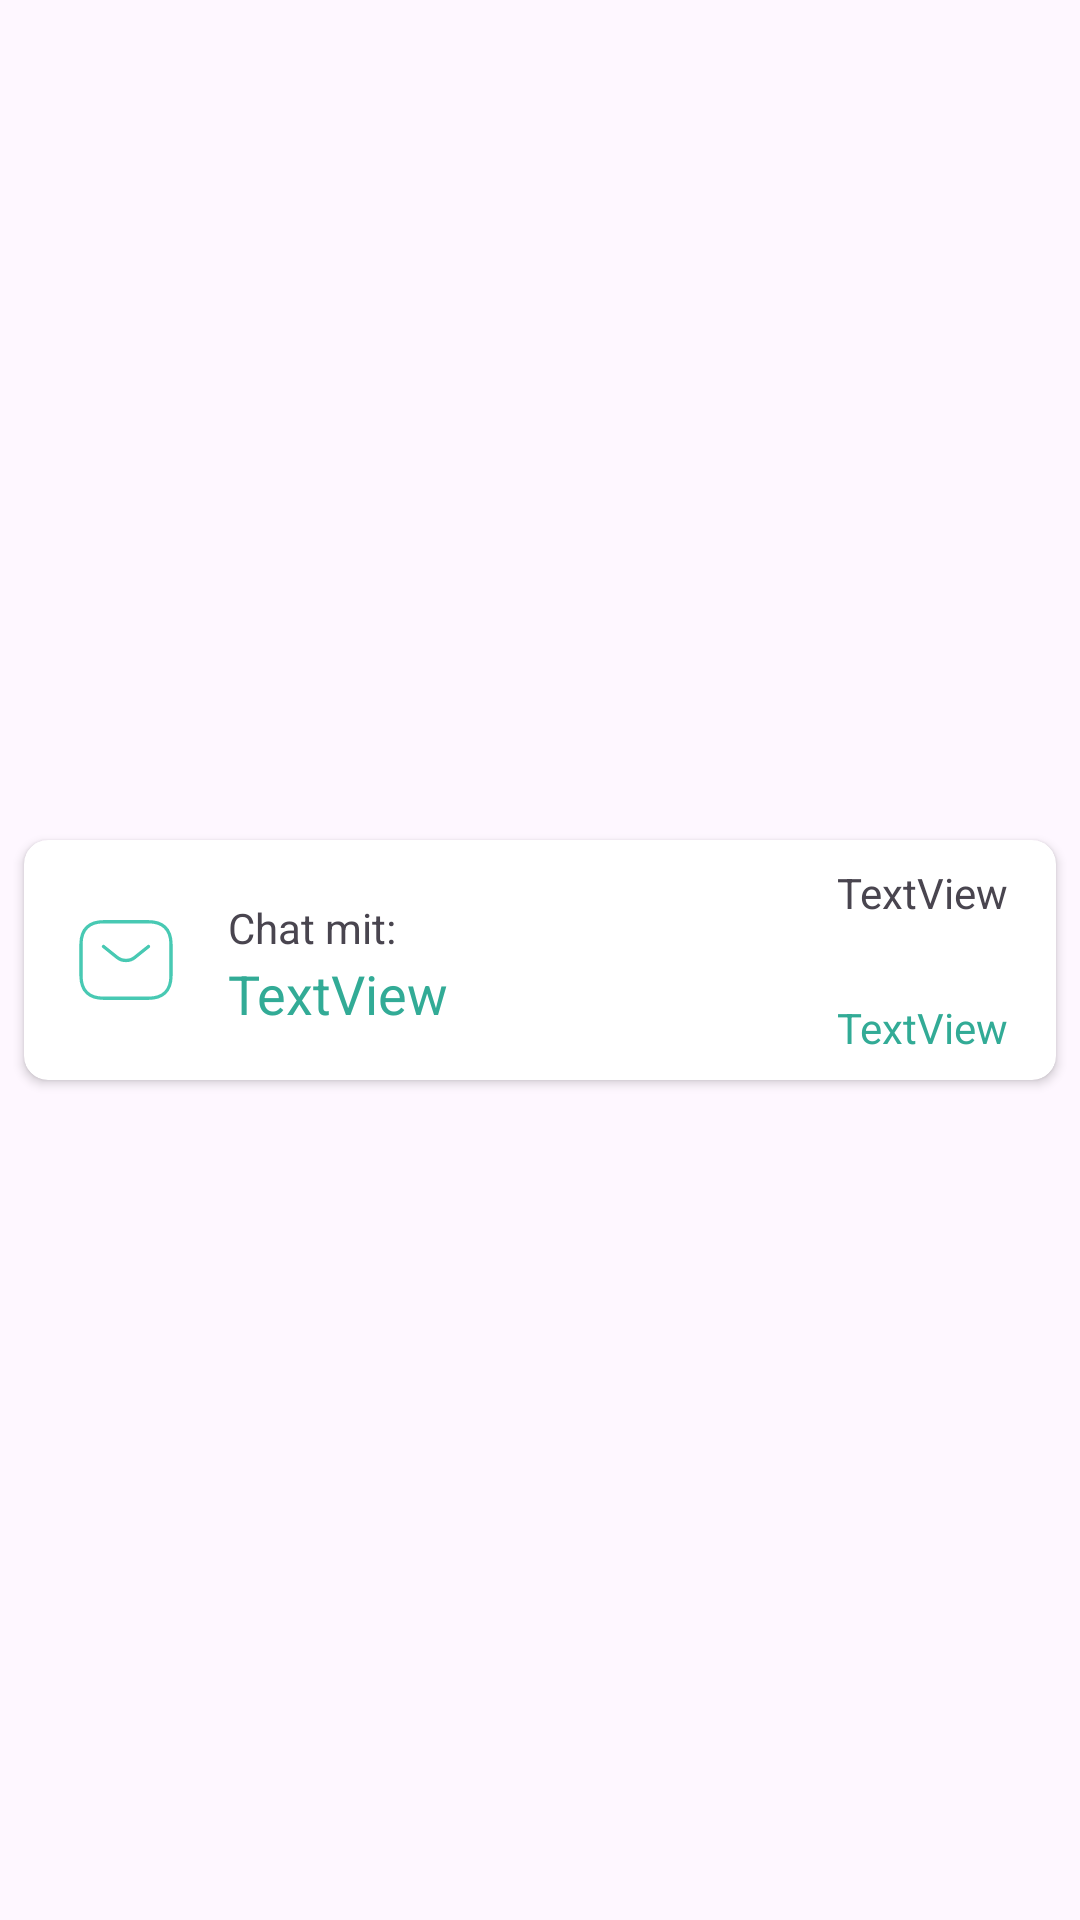

Locate icon controls on the screen. Image size 1080*1920, boxes as (x1, y1, x2, y2).
message: (79, 920, 173, 1000)
